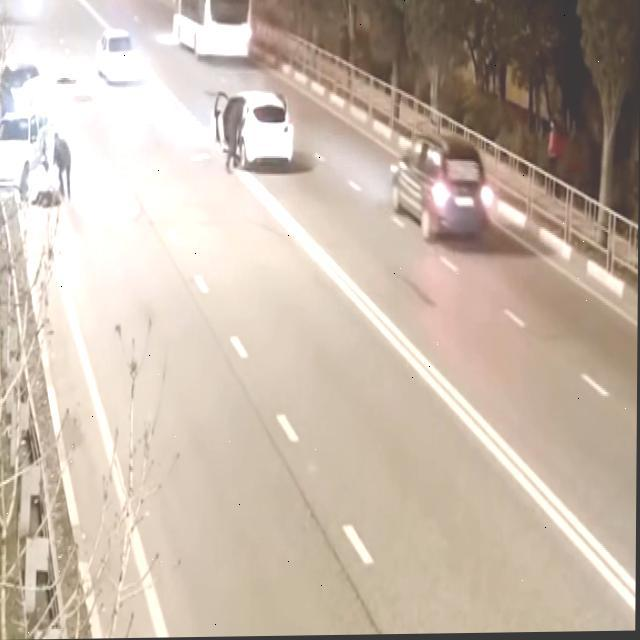normal: (369, 116, 541, 257), (185, 80, 316, 176)
